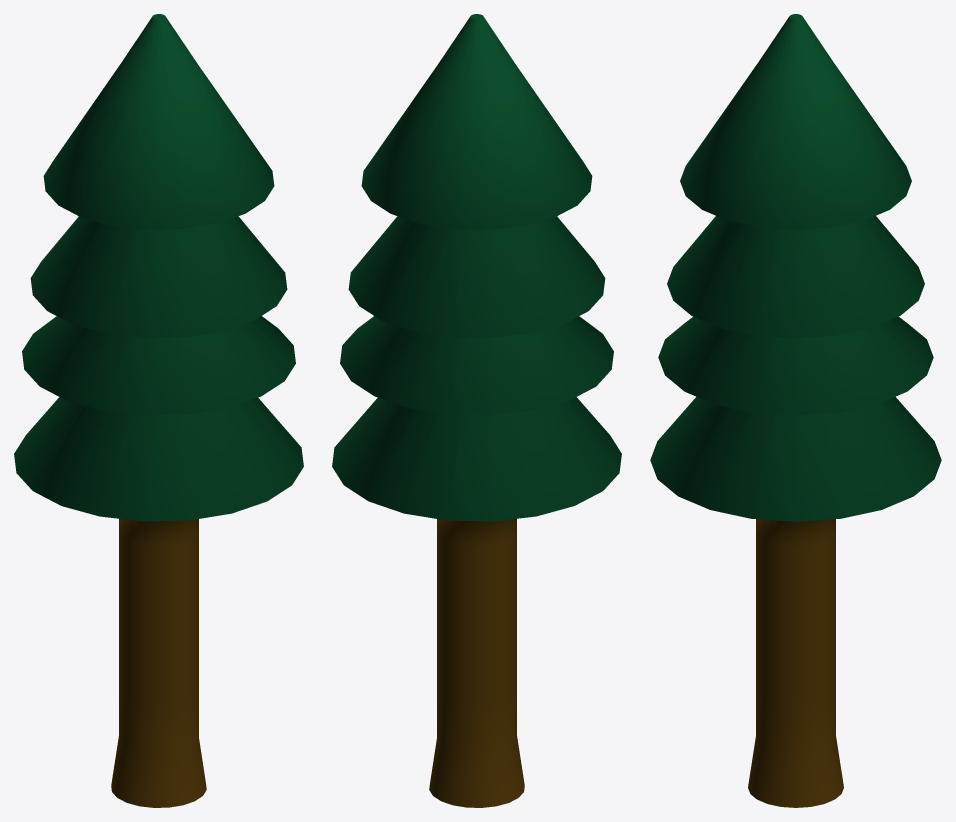
Rendered from Tree.fbx.
3 views of the same model, side by side, from view 1: azimuth 30°, elevation 25°; view 2: azimuth 150°, elevation 25°; view 3: azimuth 270°, elevation 25° (orthographic).
Parts seen in each view (by area): view 1: PineTree; view 2: PineTree; view 3: PineTree.
Boxes of the visible parts, x1,y1,x2,y2 form: PineTree: (14,14,303,807); PineTree: (332,14,621,807); PineTree: (650,14,941,807).
Bounding box in the file's own units: 4.38 × 12.78 × 4.38.
